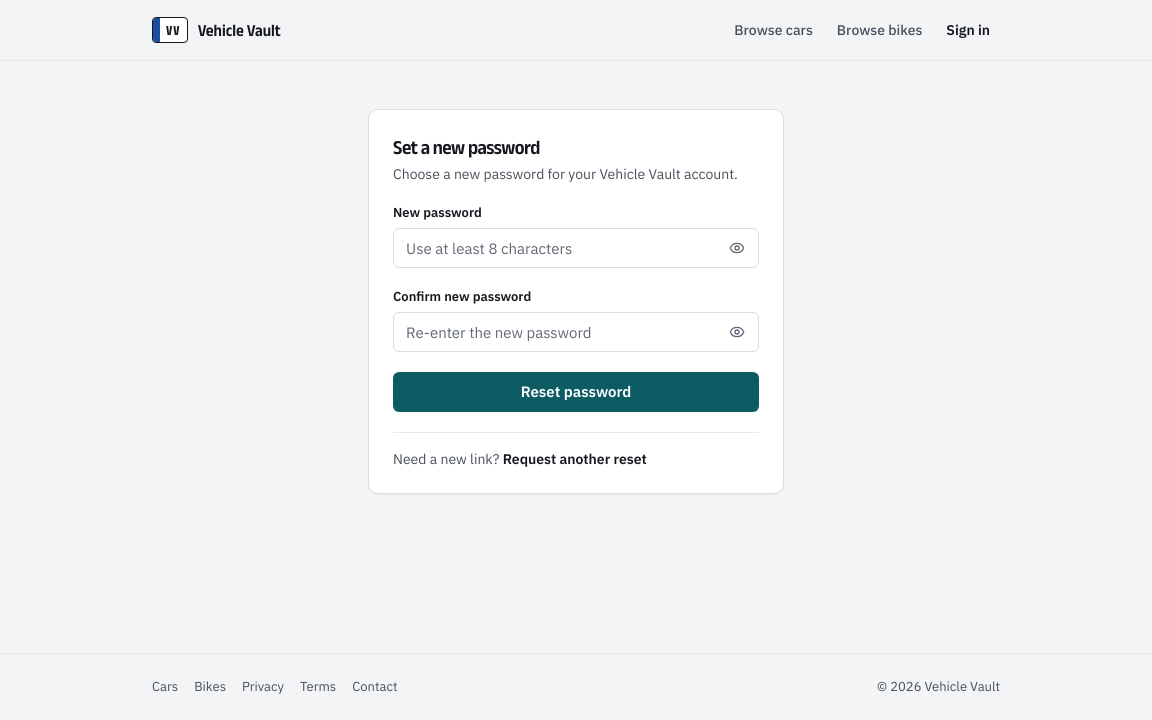
Test case: ResetPasswordPage › replaces the form when the link has expired or was used
The image size is (1152, 720).
Type "updated-password123" into the password field labelled "New password".
click(576, 248); type("updated-password123")  # box top-left (393, 228), bottom-right (759, 268)
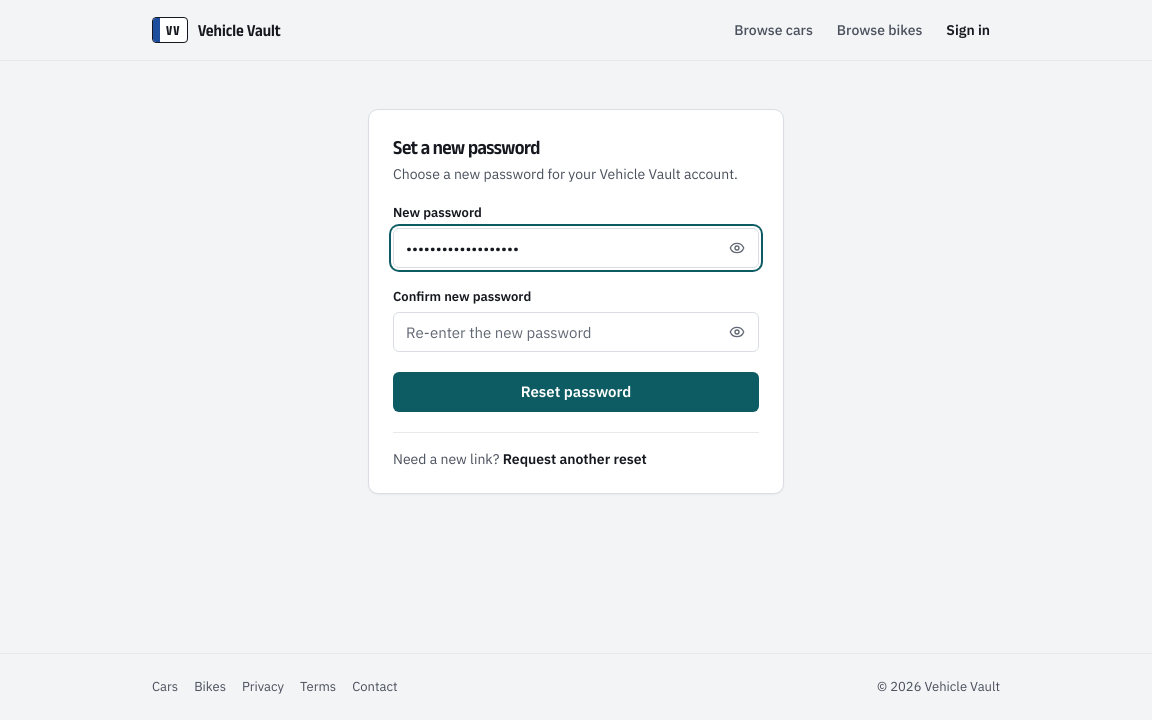
Type "updated-password123" into the password field labelled "Confirm new password".
click(576, 332); type("updated-password123")  # box top-left (393, 312), bottom-right (759, 352)
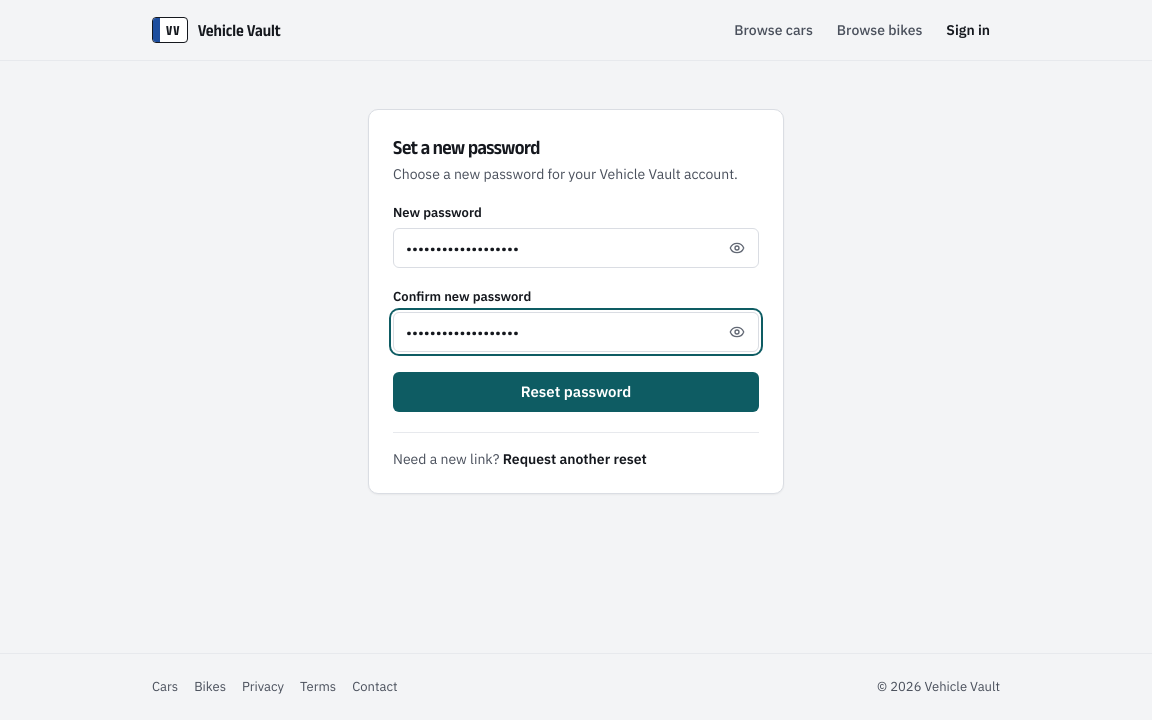
Click the button "Reset password".
click(576, 392)  # box top-left (393, 372), bottom-right (759, 412)
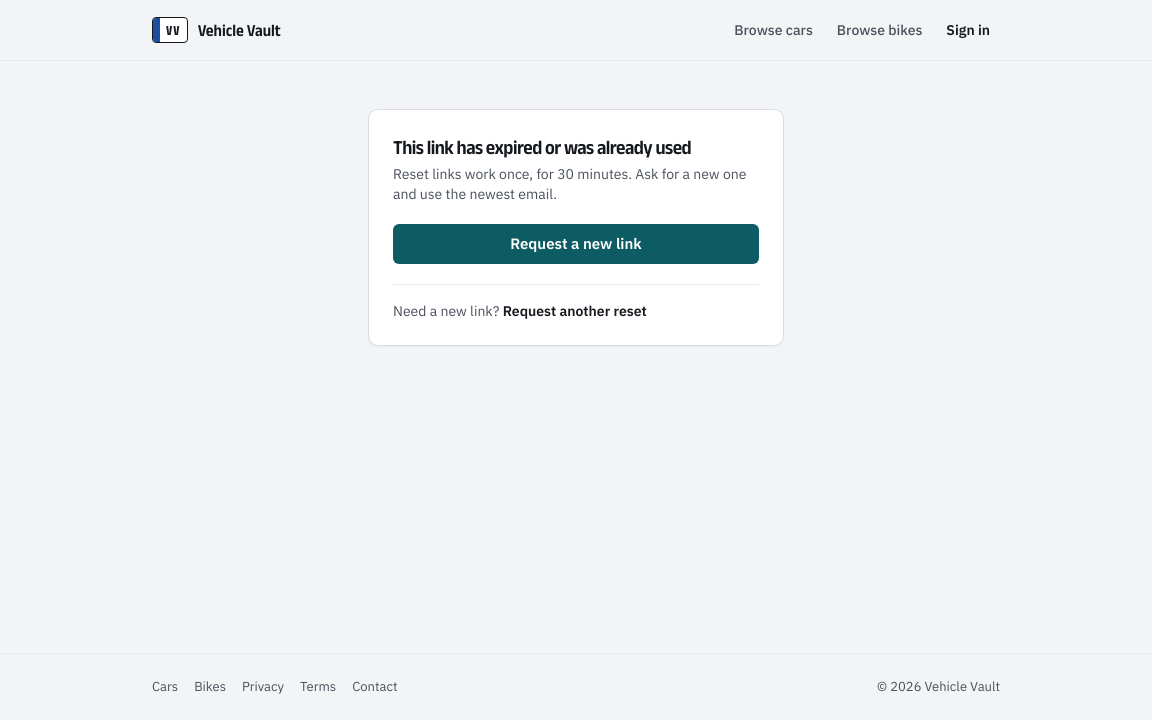
Now the label labelled "New password" is gone
